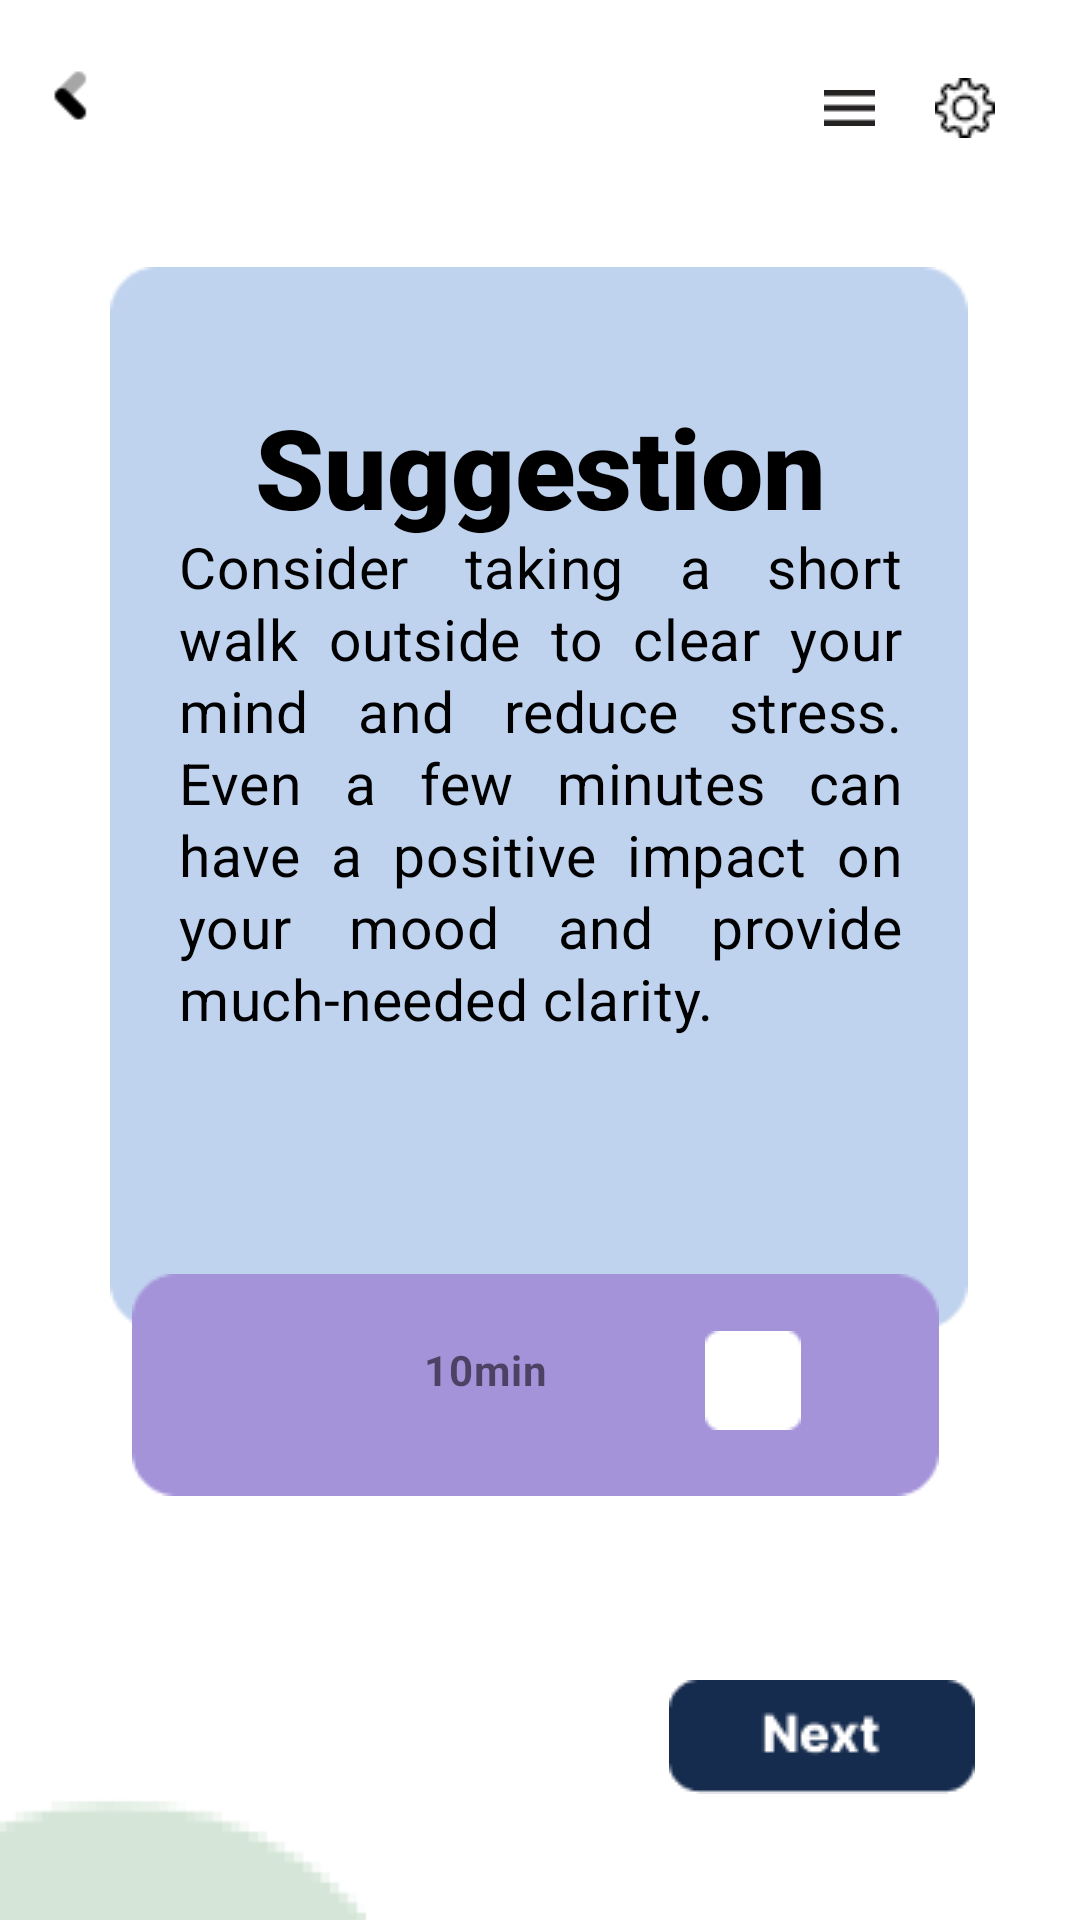

Screen size 1080*1920. Icon name, then its box in pixels as (x1, y1, x2, y2):
back: (54, 71, 87, 120)
menu: (824, 90, 875, 126)
settings: (935, 78, 995, 138)
